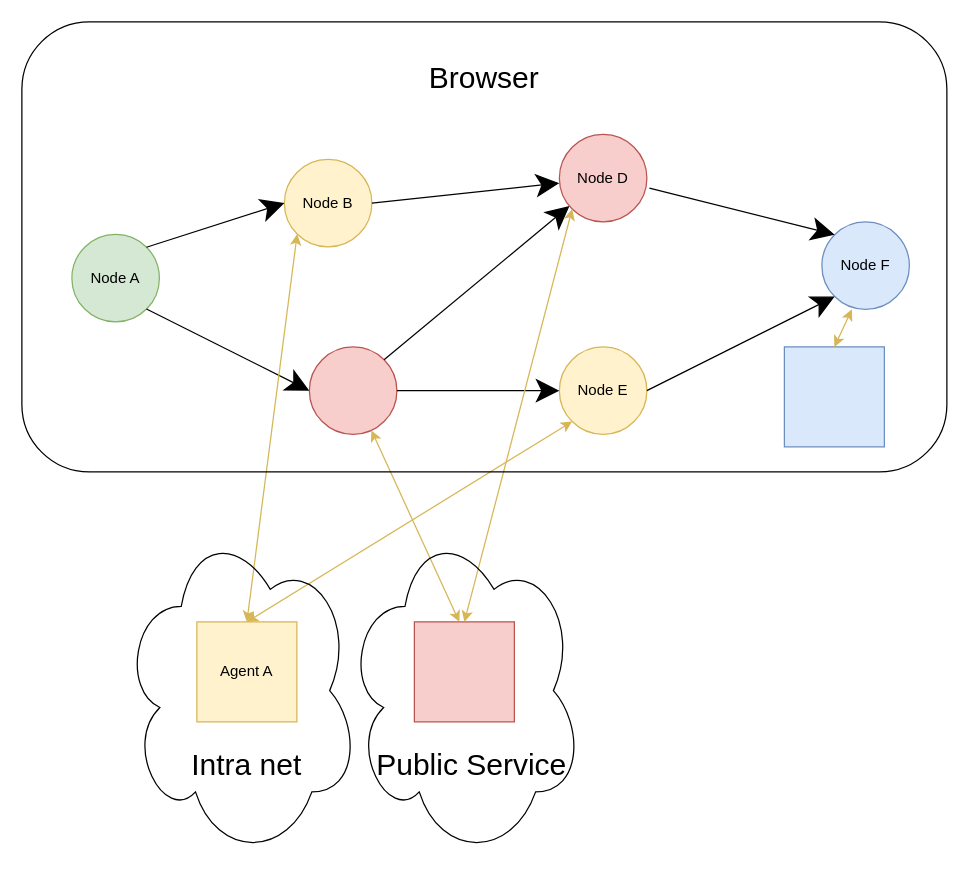
Some shapes in this 969 by 881 pixel diagram are drawn without their labels. Here are the shapes that lost their labels. From the top down, the centre of each, then its label:
At (352,390): "Node C".
At (833,396): "Agent C".
At (463,671): "Agent B".
